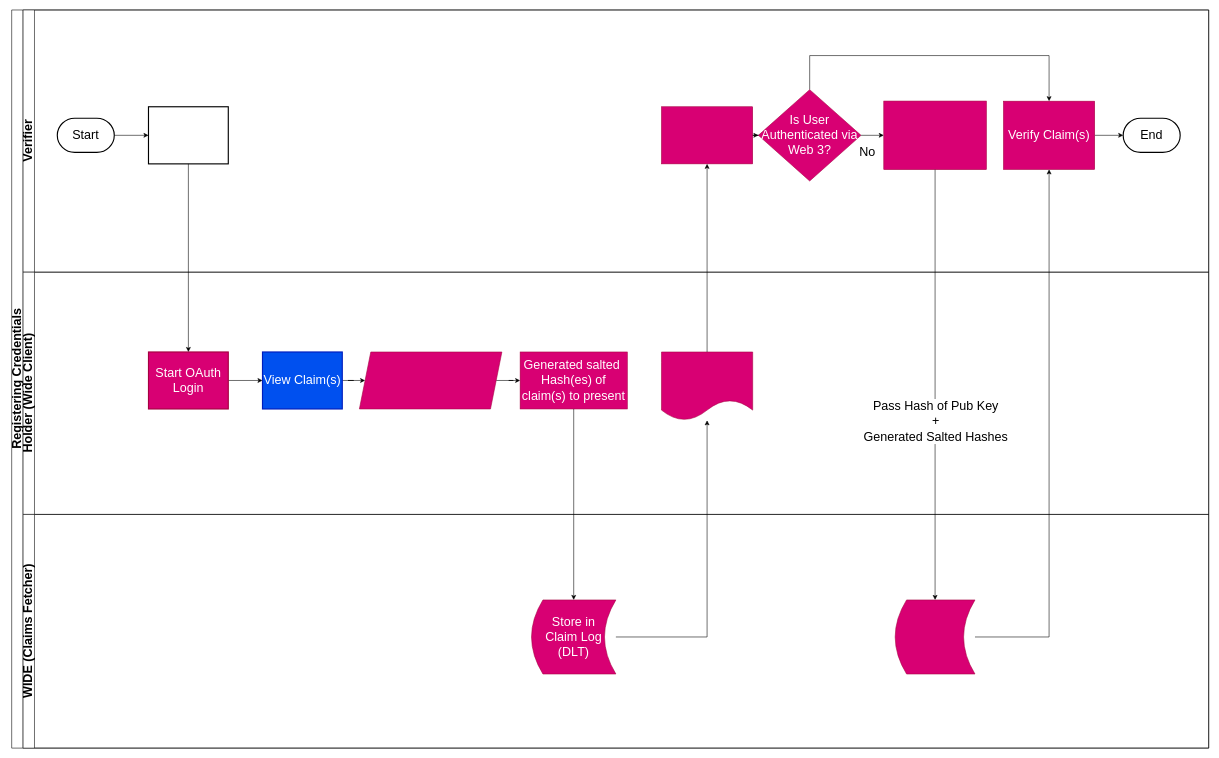
The diagram is 1219 pixels wide and 758 high, and some of its shapes have lost their labels. Here are the shapes that lost their labels. From the top down, the centre of each, then its label:
the point at 188,135: Challenge Identity
the point at 707,135: Present Claim(s)
the point at 934,135: Generate salted Hash(es) of claim(s) to verify
the point at 430,380: Select Claim(s) or Predicates to Present to Verifier
the point at 707,385: Generate OAuth response
the point at 935,636: Verify against Claim Log (DLT)
